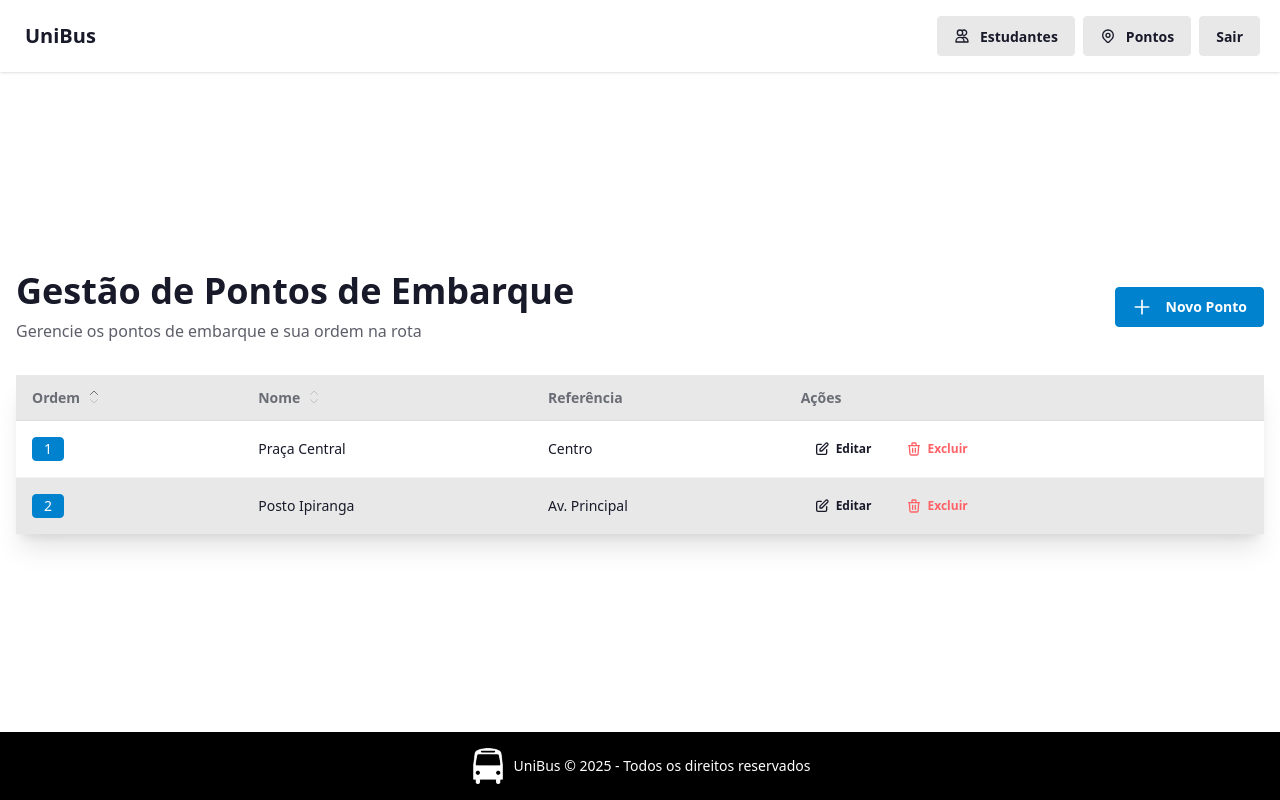
it: Gestão de Pontos de Embarque (Admin) › Deve excluir um ponto
The width and height of the screenshot is (1280, 800).
Click the button "Excluir" in the row of "Praça Central" at (937, 449), box 893,433 -> 981,465
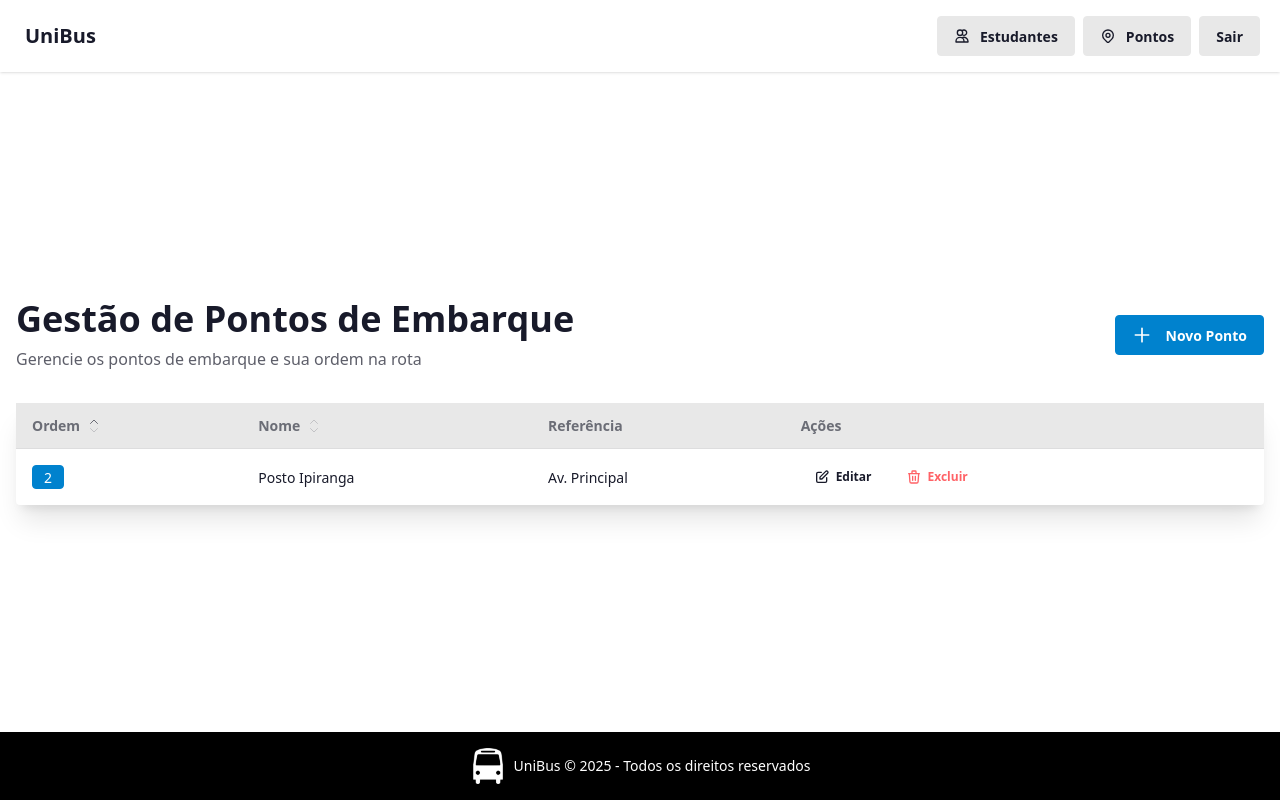
Result: the text "Praça Central" is gone
